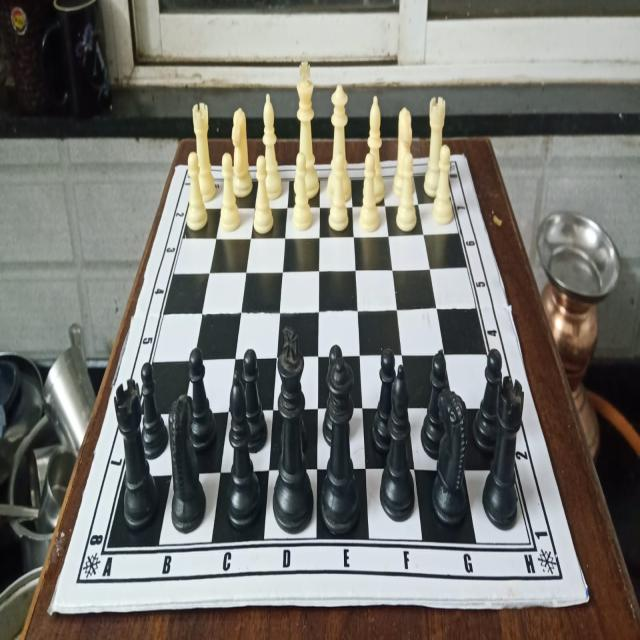corners: (42, 592, 58, 627), (577, 579, 594, 610), (169, 156, 183, 182), (455, 146, 467, 171)
